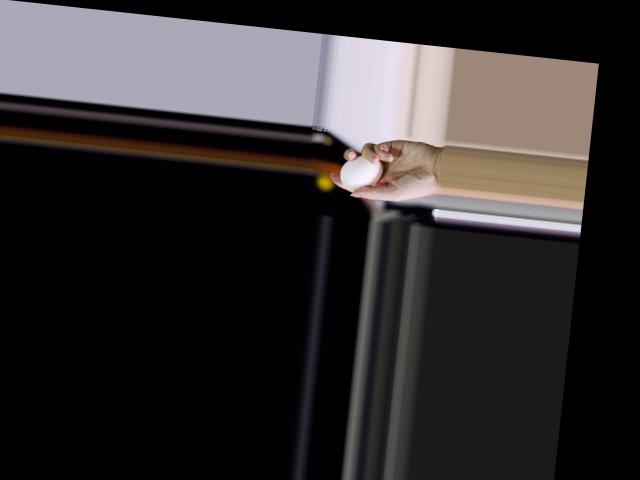egg: (337, 153, 383, 192)
